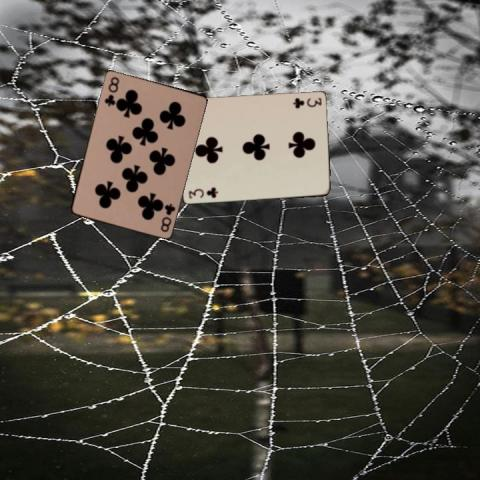3c: (185, 185, 219, 200), (290, 94, 323, 108)
8c: (101, 74, 121, 107), (157, 200, 177, 233)
